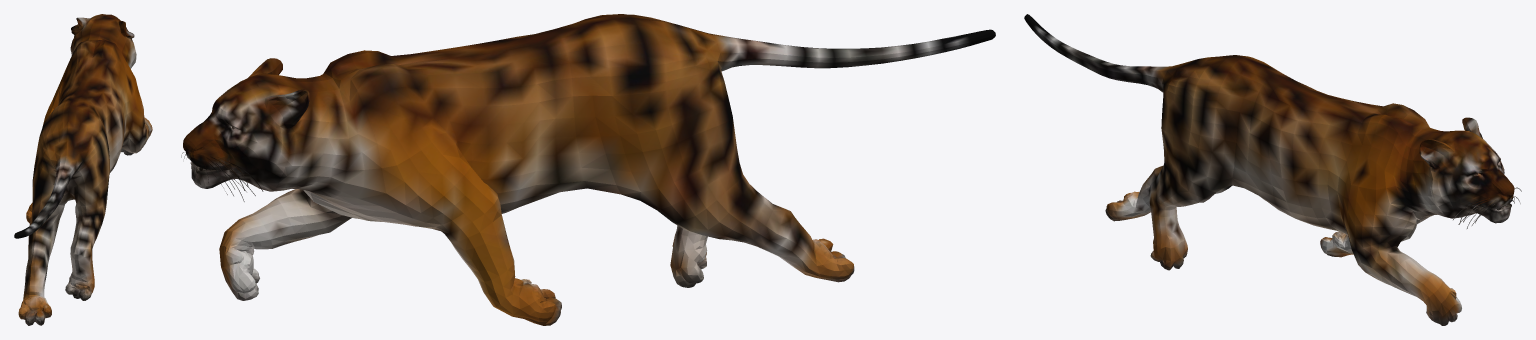
The model's file is tiger.mesh.glb.
3 views of the same model, side by side, from view 1: azimuth 30°, elevation 25°; view 2: azimuth 150°, elevation 25°; view 3: azimuth 270°, elevation 25° (orthographic). The views are drawn at different scales.
Visible parts, largest first — view 1: root; view 2: root; view 3: root.
Part boxes in pixels (x1=…): root: x1=14, y1=14, x2=152, y2=325; root: x1=181, y1=14, x2=995, y2=325; root: x1=1024, y1=14, x2=1521, y2=325.
Size of the model in its own units: 0.653 by 0.3573 by 0.7285.
Materials: 1 (1 with a texture image).
